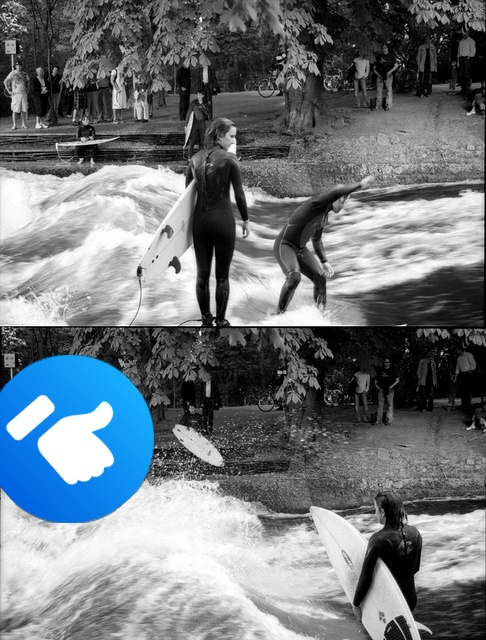like: (0, 355, 154, 523)
